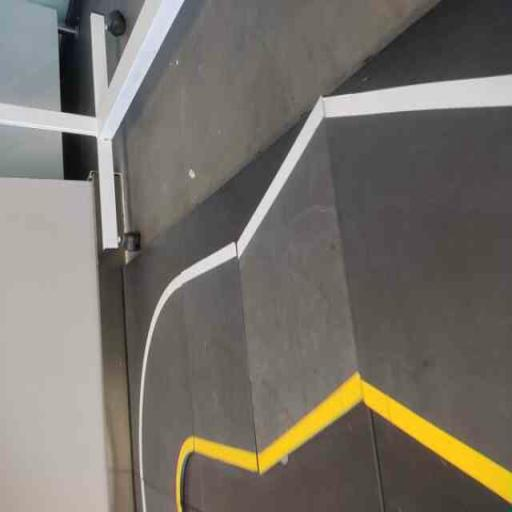crossleft: (235, 60, 364, 499)
